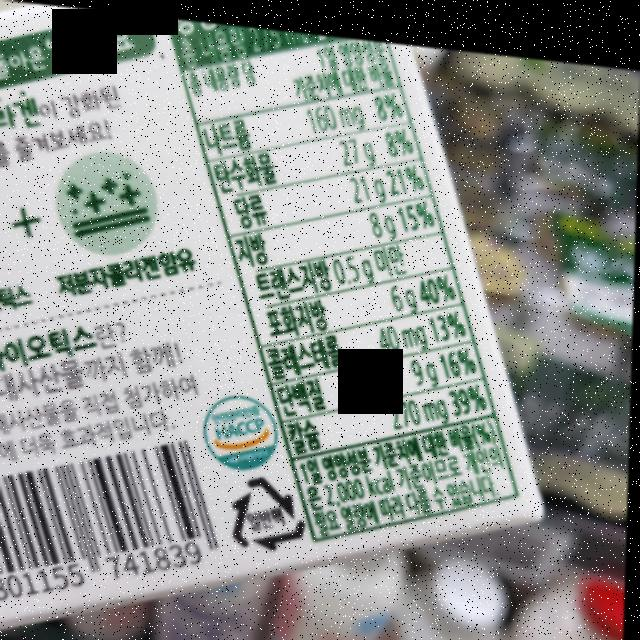NormalPack: (232, 466, 311, 552)
